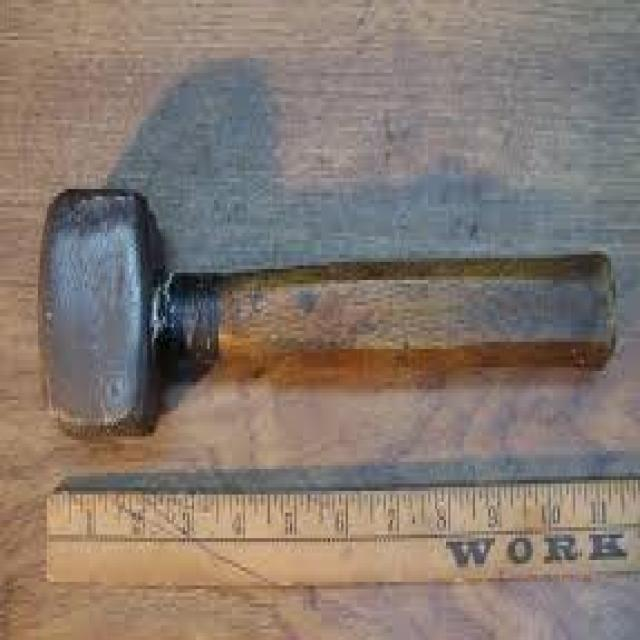hammer: (34, 171, 622, 444)
